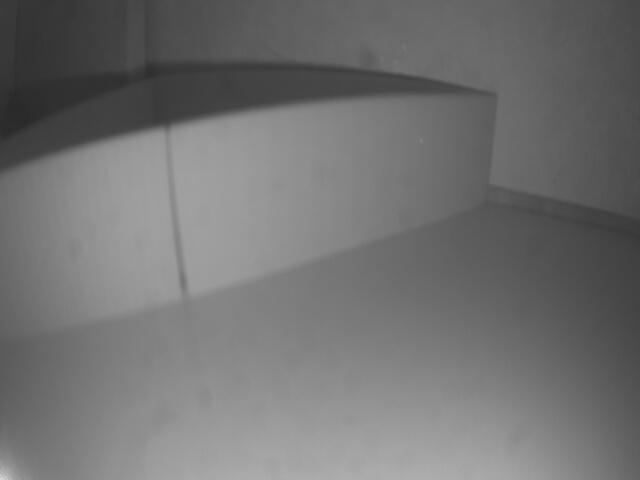Red: (3, 95, 497, 338)
